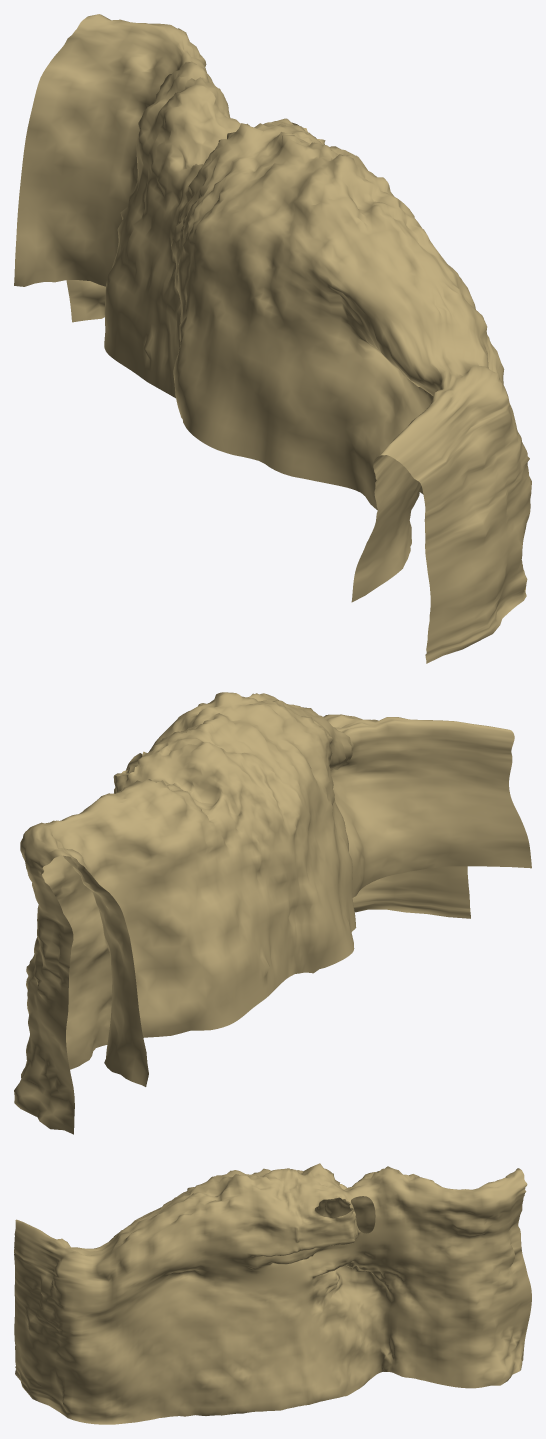
The model's file is CaveNormalsReversed 1.fbx.
3 renders of one model, top to bottom at view 1: azimuth 30°, elevation 25°; view 2: azimuth 150°, elevation 25°; view 3: azimuth 270°, elevation 25°, orthographic. The views are drawn at different scales.
Parts seen in each view (by area): view 1: Cave3; view 2: Cave3; view 3: Cave3.
Boxes of the visible parts, x1=… form: Cave3: x1=14, y1=14, x2=531, y2=663; Cave3: x1=14, y1=692, x2=531, y2=1134; Cave3: x1=14, y1=1163, x2=531, y2=1424.
Bounding box in the file's own units: 78.05 × 111 × 228.
